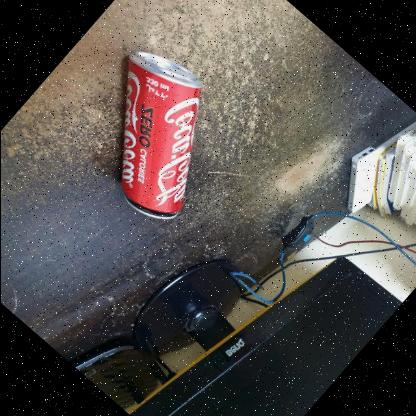Can: (111, 48, 205, 221)
